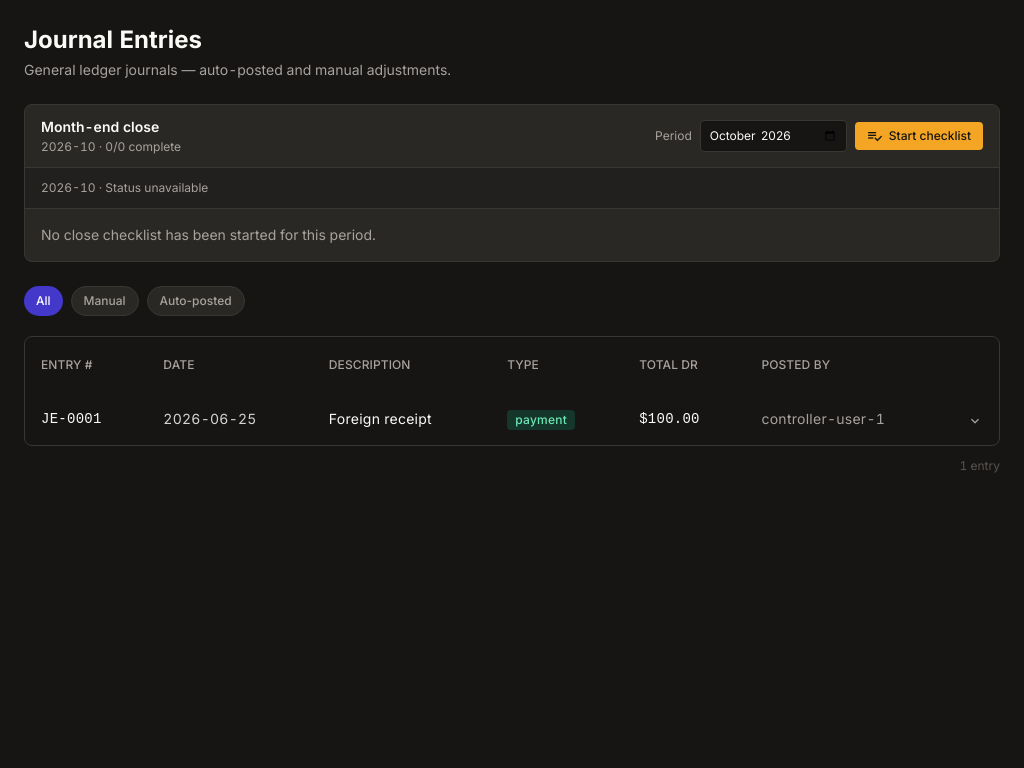
Scenario: JournalEntriesListComponent close period › renders independent journal audit detail including actor, accounts, and FX provenance
The width and height of the screenshot is (1024, 768).
What coordinates should you click on to do the following:
click the button named "Expand journal lines"
I would click on:
 (975, 419)
Its box is [967,408,983,430].
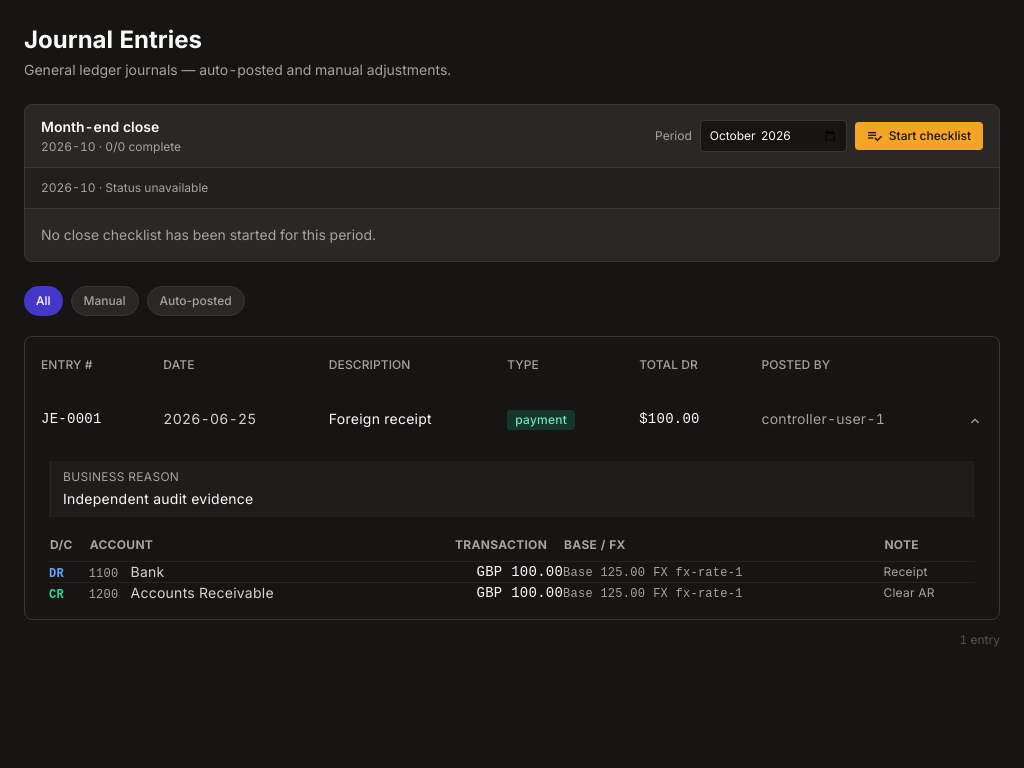
Check: the table named "Journal lines for JE-0001" is shown, box [49,529,975,603]
Check: the table named "Journal lines for JE-0001" shows "1100", box [89,567,118,581]
Check: the table named "Journal lines for JE-0001" shows "Bank", box [126,563,164,580]
